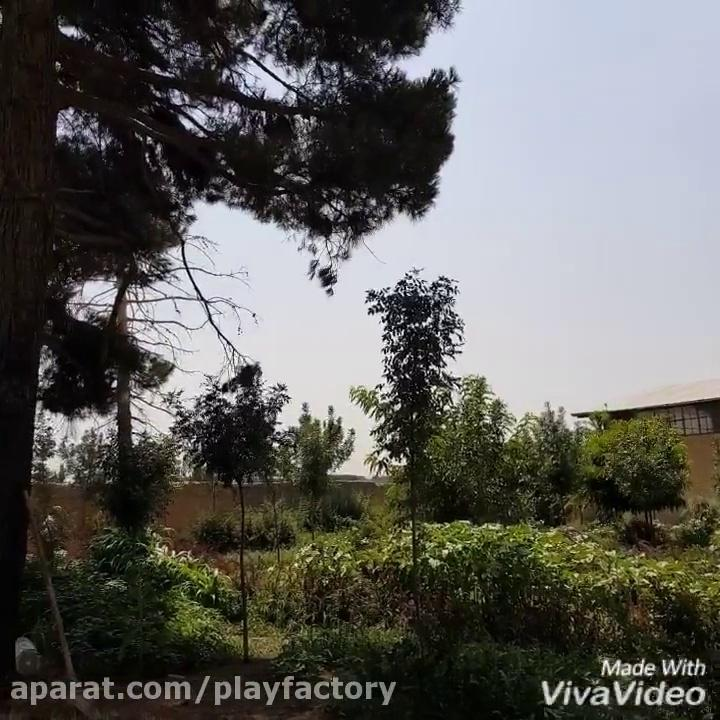drone: (407, 258, 430, 276)
